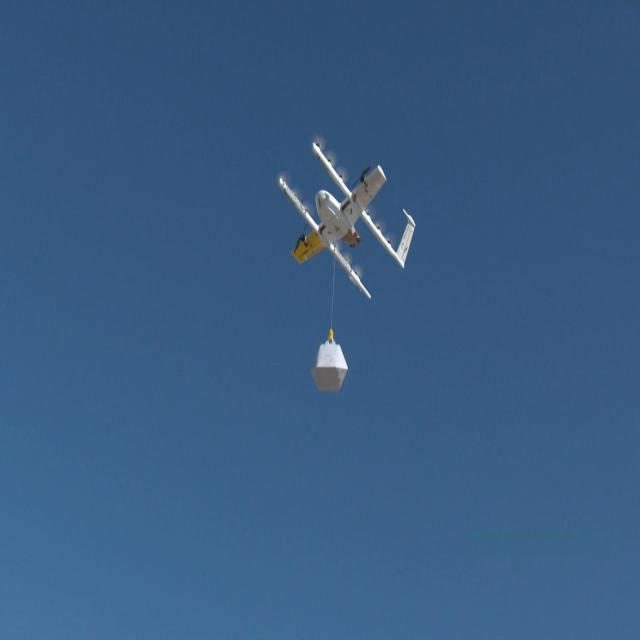iha: (265, 129, 430, 301)
